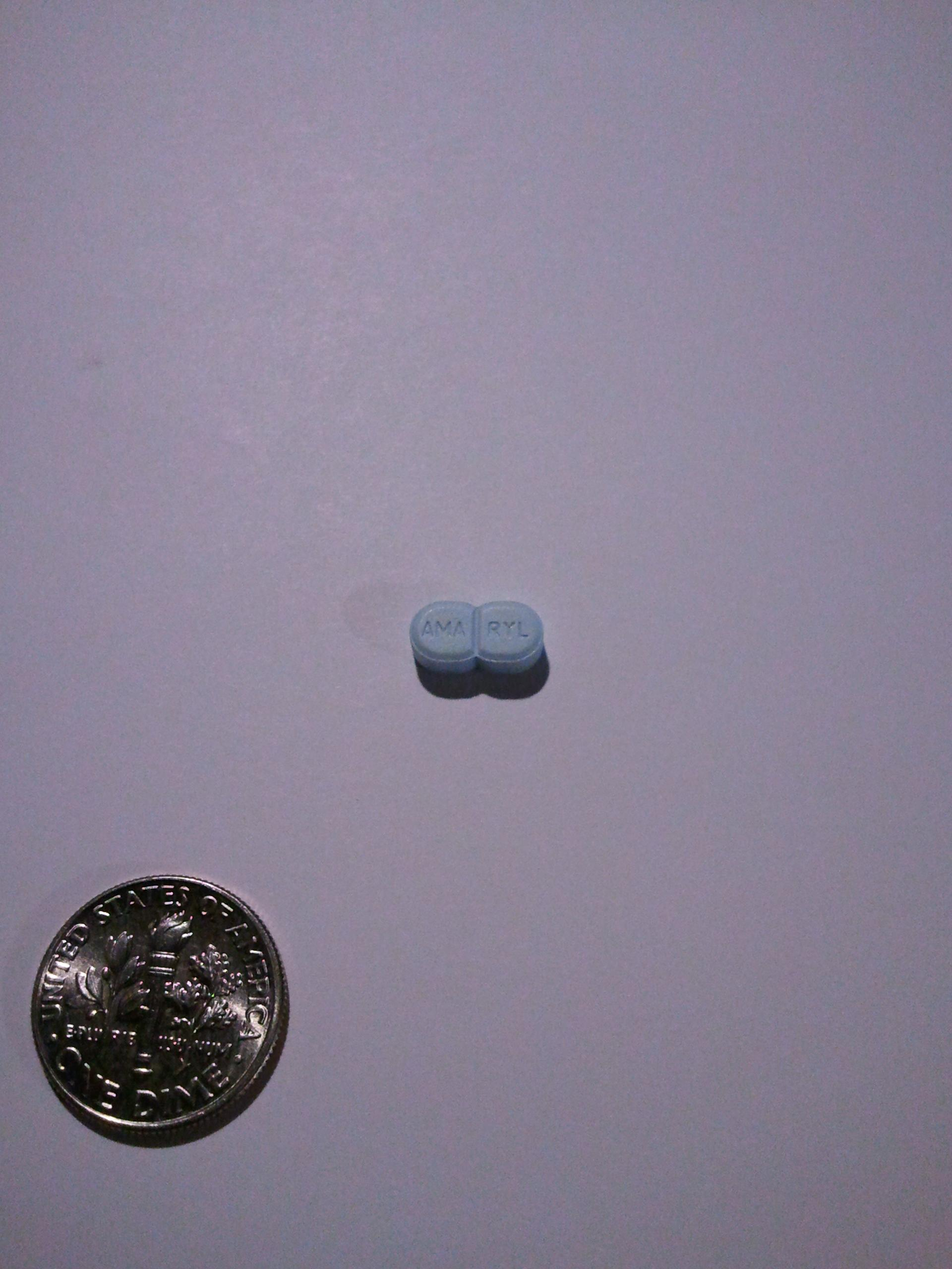Pill: (392, 577, 574, 703)
